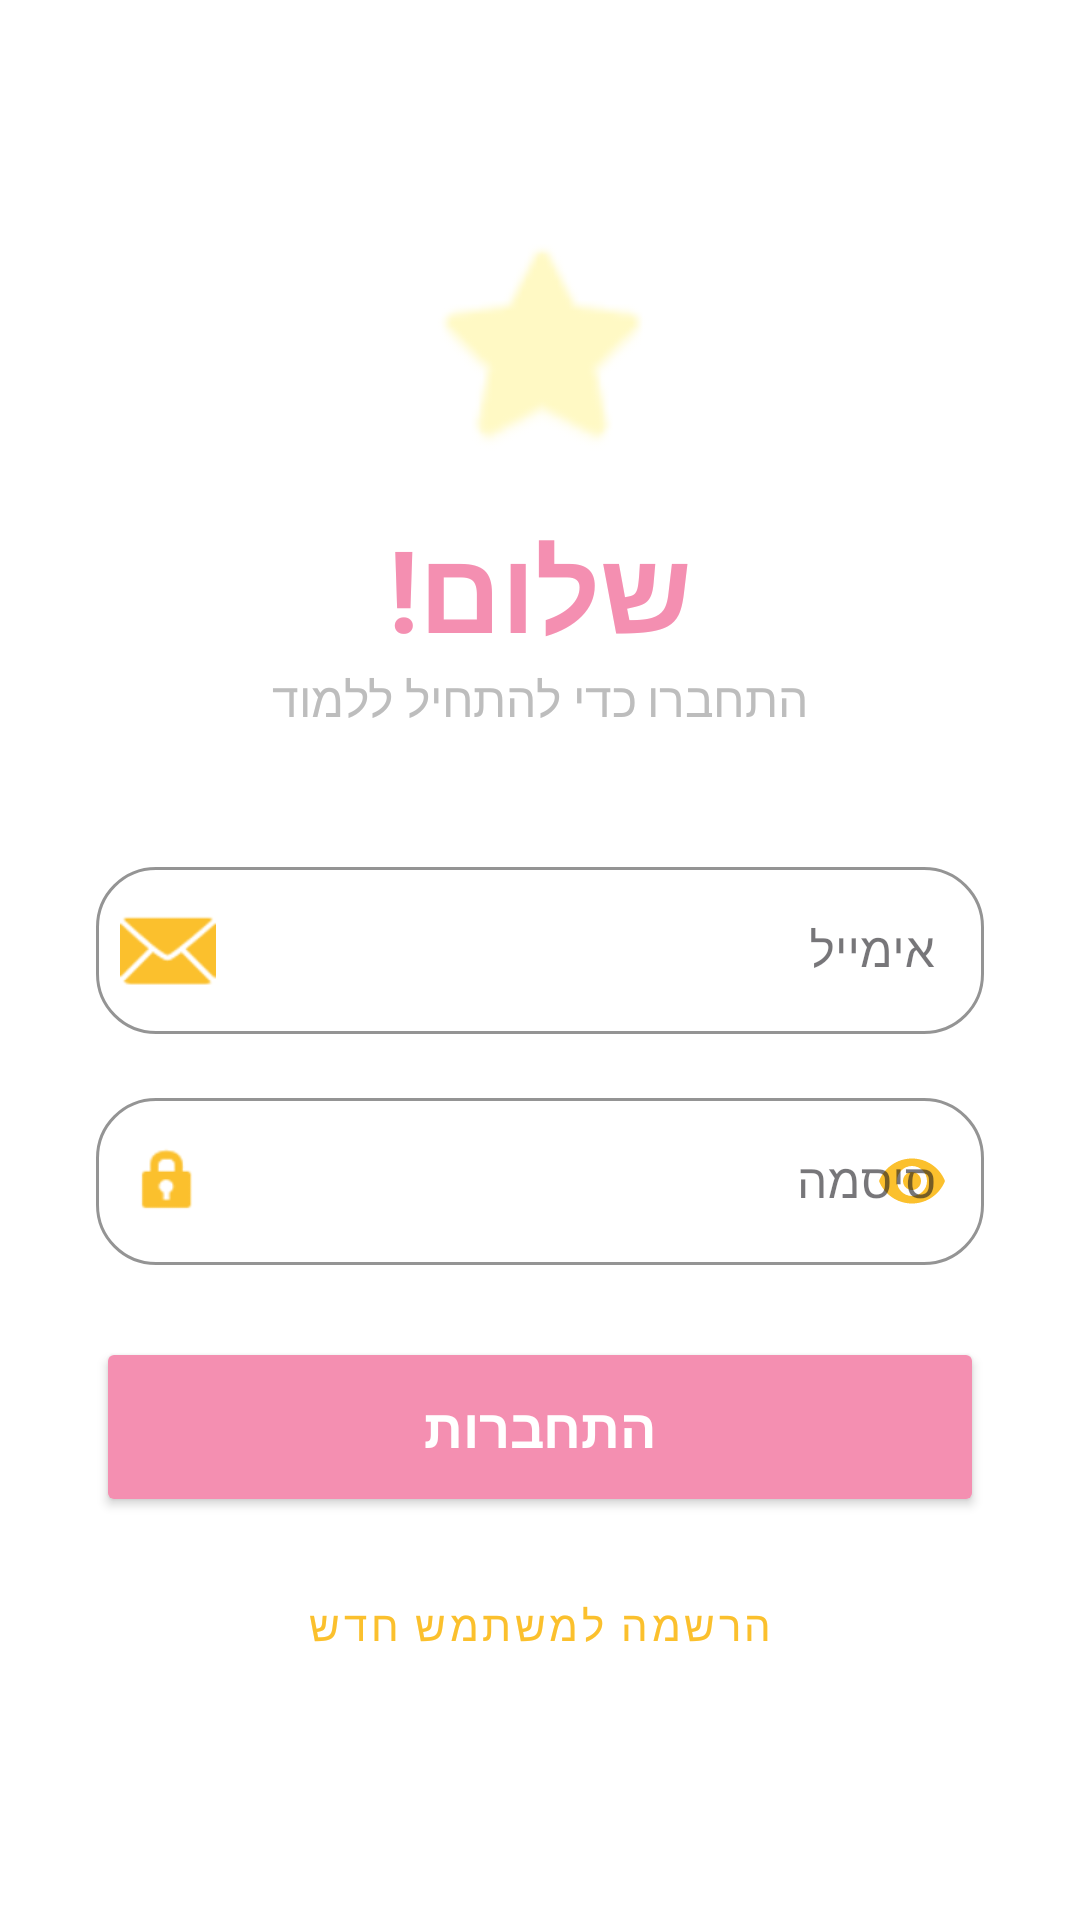

Named icons in this screenshot (1080w x 1920h) and their centers, point (x, y):
star on: point (542, 344)
